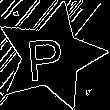P_N: (29, 30, 72, 83)
